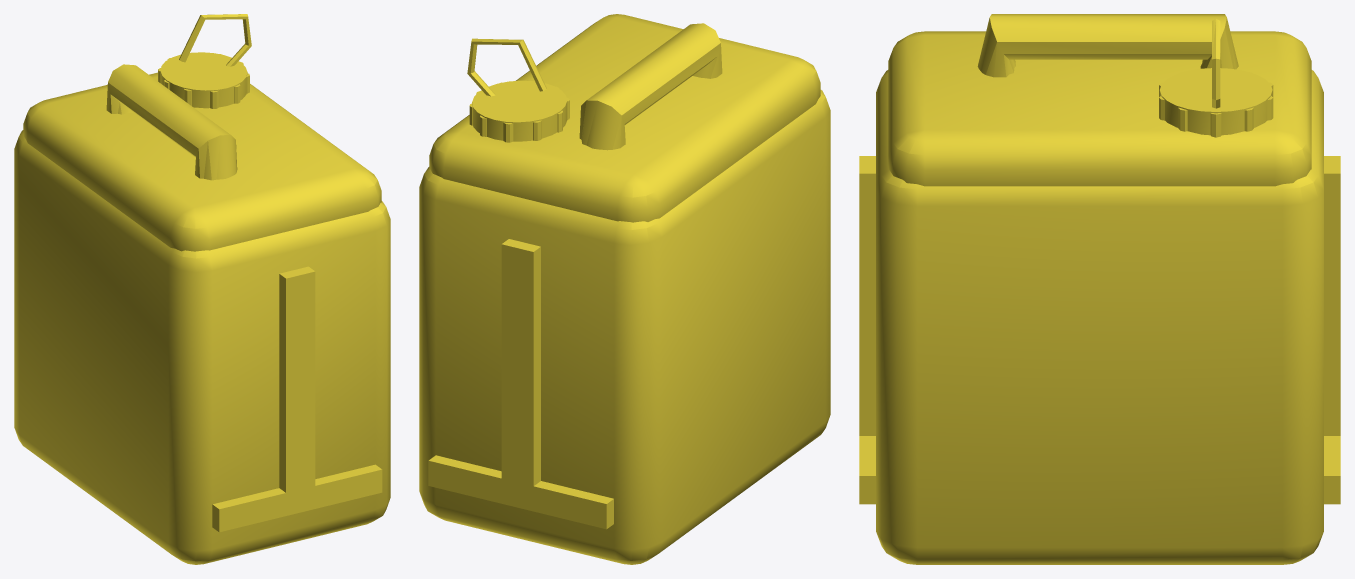
Rendered from ob_jerrycan_3.glb.
3 renders of one model, left to right at view 1: azimuth 30°, elevation 25°; view 2: azimuth 150°, elevation 25°; view 3: azimuth 270°, elevation 25°, orthographic. The views are drawn at different scales.
Visible parts, largest first — view 1: ob_jerrycan_3; view 2: ob_jerrycan_3; view 3: ob_jerrycan_3.
Boxes of the visible parts, <box> form: ob_jerrycan_3: <box>14,14,390,564</box>; ob_jerrycan_3: <box>419,14,830,564</box>; ob_jerrycan_3: <box>859,14,1340,564</box>.
Bounding box in the file's own units: 0.23 × 0.43 × 0.36.
